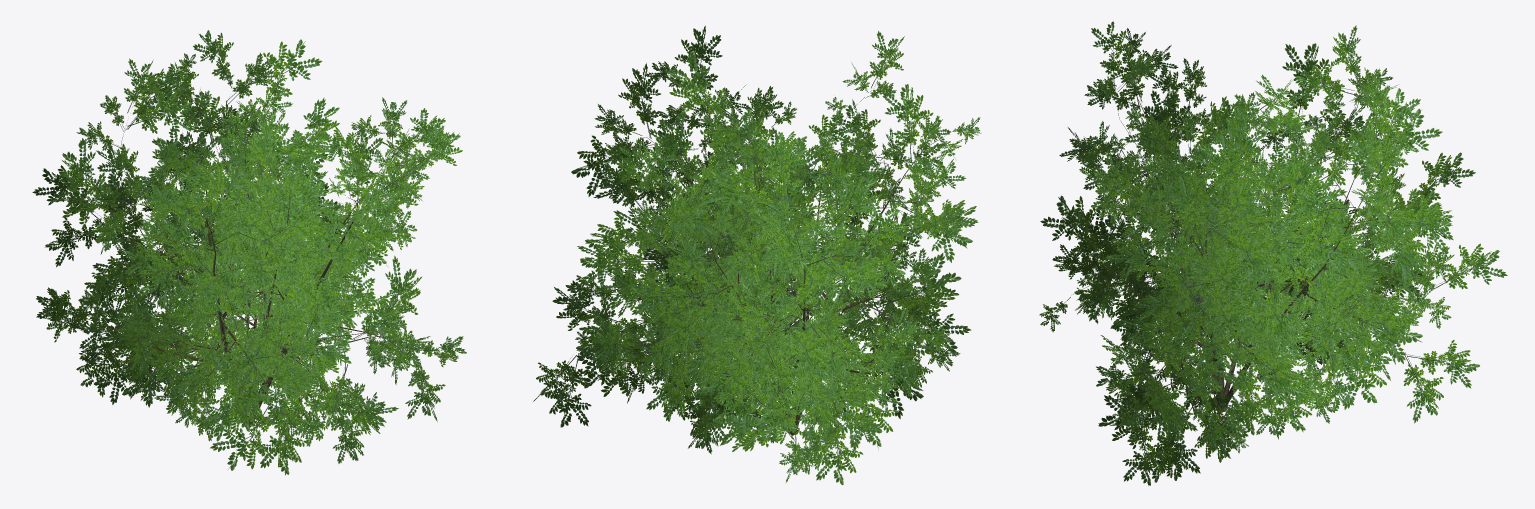
File: bush_a.glb
3 renders of one model, left to right at view 1: azimuth 30°, elevation 25°; view 2: azimuth 150°, elevation 25°; view 3: azimuth 270°, elevation 25°, orthographic. The views are drawn at different scales.
Parts seen in each view (by area): view 1: leaves, trunk; view 2: leaves, trunk; view 3: leaves, trunk.
Part boxes in pixels (bbox=[...]): leaves: bbox=[32, 30, 466, 475]; trunk: bbox=[88, 101, 420, 427]; leaves: bbox=[533, 25, 981, 484]; trunk: bbox=[596, 90, 944, 435]; leaves: bbox=[1039, 21, 1507, 485]; trunk: bbox=[1081, 74, 1422, 425].
Bounding box in the file's own units: 1.55 × 1.6 × 1.66.
Materials: 2 (2 with a texture image).
